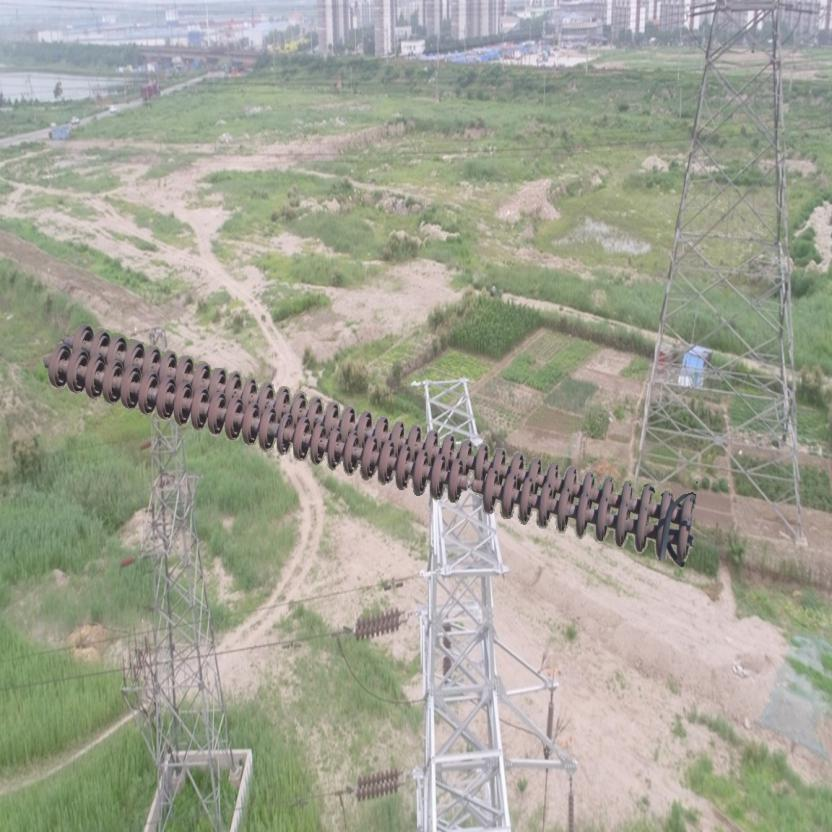defect: (440, 456, 501, 514)
